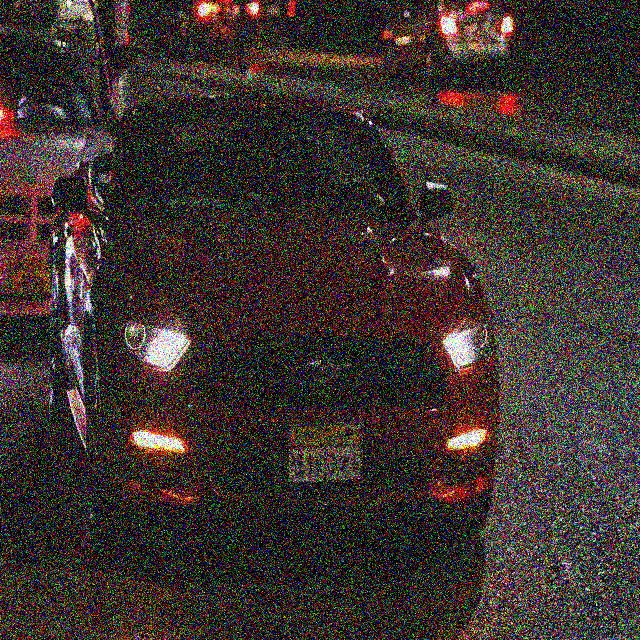License Plate: (285, 419, 364, 487)
